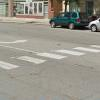Crosswalk: (3, 41, 96, 74)
